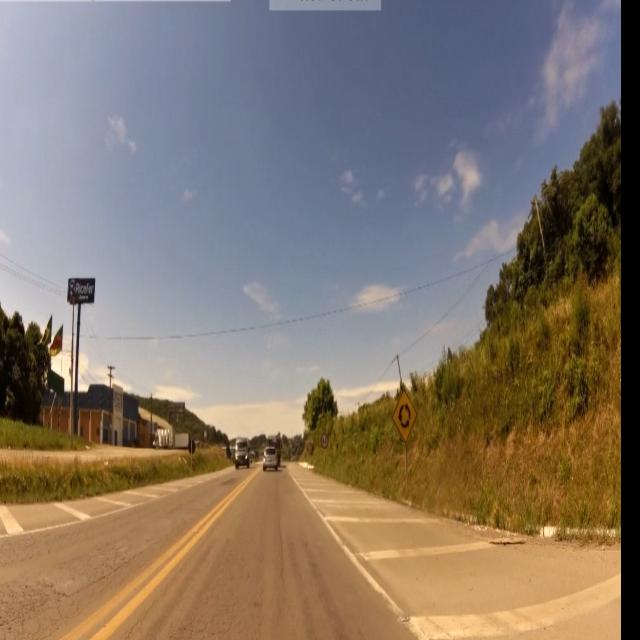A-12: (394, 392, 417, 443)
